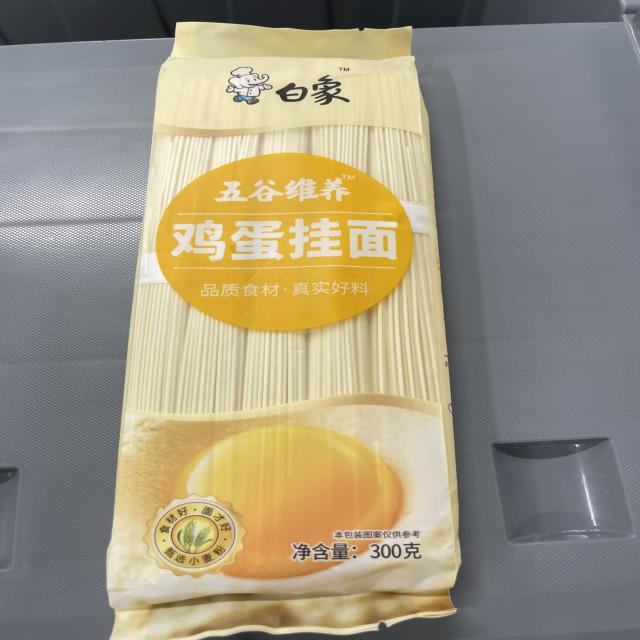object_name: (122, 21, 446, 618)
